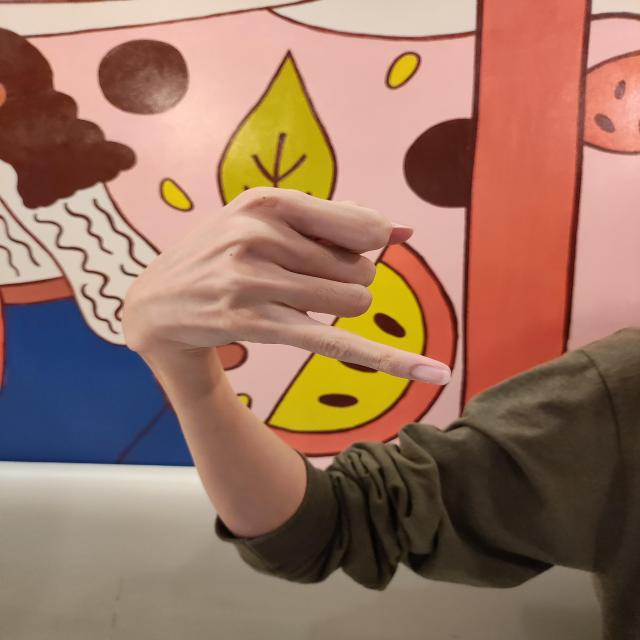J: (118, 183, 457, 389)
